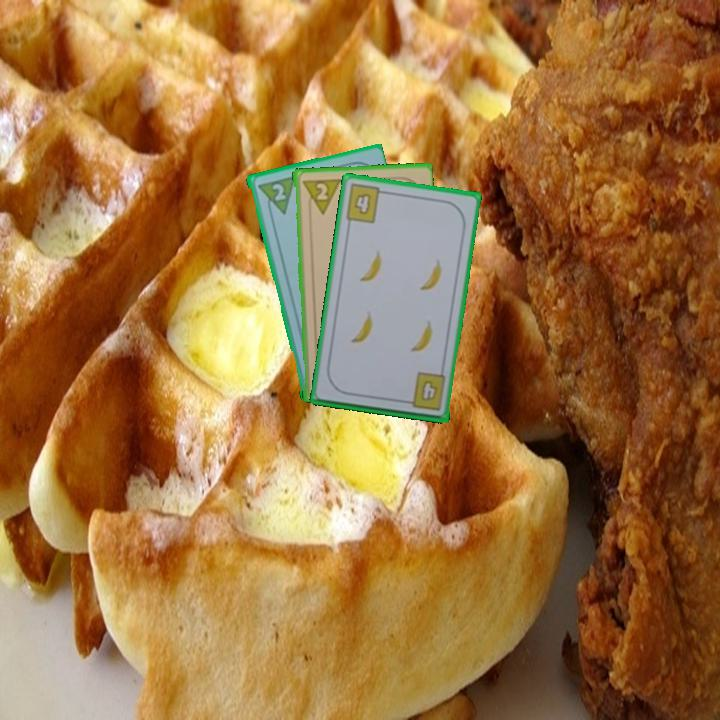2p: (298, 175, 342, 217), (268, 179, 288, 203)
4b: (342, 180, 390, 226), (401, 369, 448, 413)
